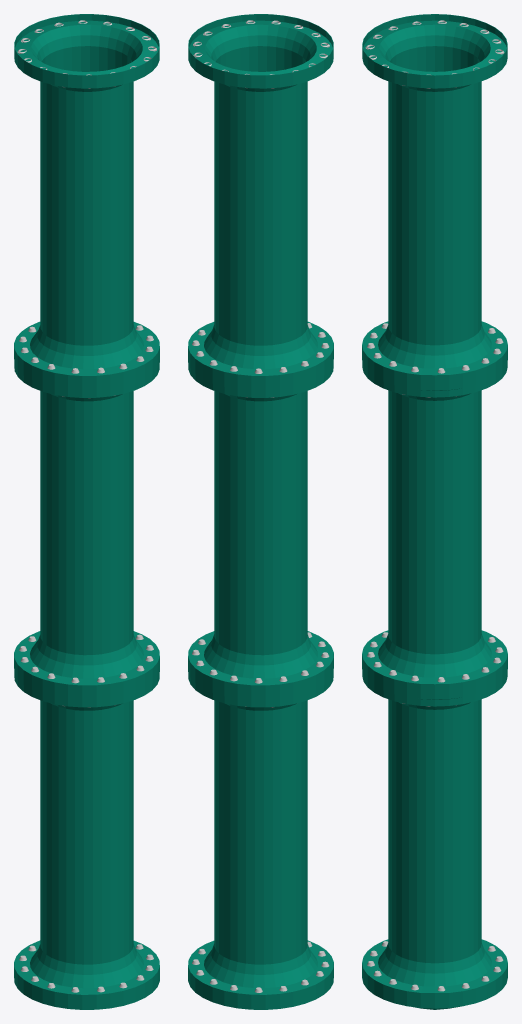
Rendered from Enter_Pipe_Green.fbx.
The picture shows the model from 3 angles, left to right: view 1: azimuth 30°, elevation 25°; view 2: azimuth 150°, elevation 25°; view 3: azimuth 270°, elevation 25°; orthographic projection.
Parts seen in each view (by area): view 1: Cylinder.297; view 2: Cylinder.297; view 3: Cylinder.297.
Boxes of the visible parts, bbox=[...] form: Cylinder.297: bbox=[14, 14, 159, 1009]; Cylinder.297: bbox=[188, 14, 333, 1009]; Cylinder.297: bbox=[362, 14, 507, 1009].
Bounding box in the file's own units: 168 × 1184 × 168.
